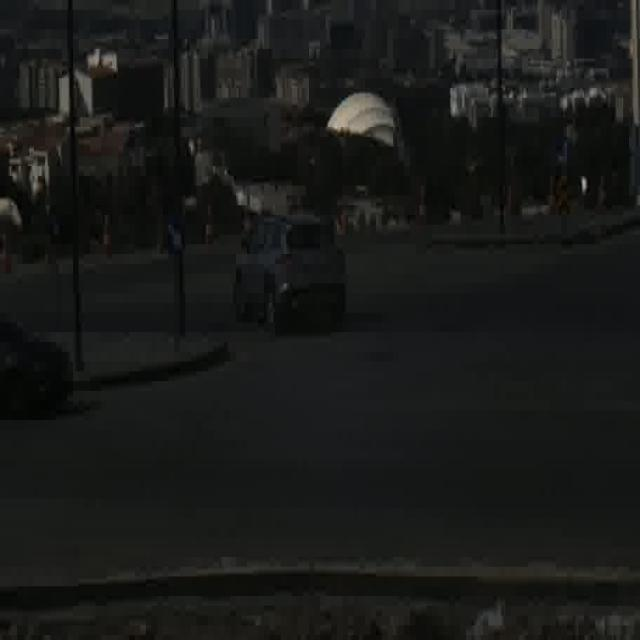Car: (235, 206, 348, 334), (0, 314, 72, 413)
